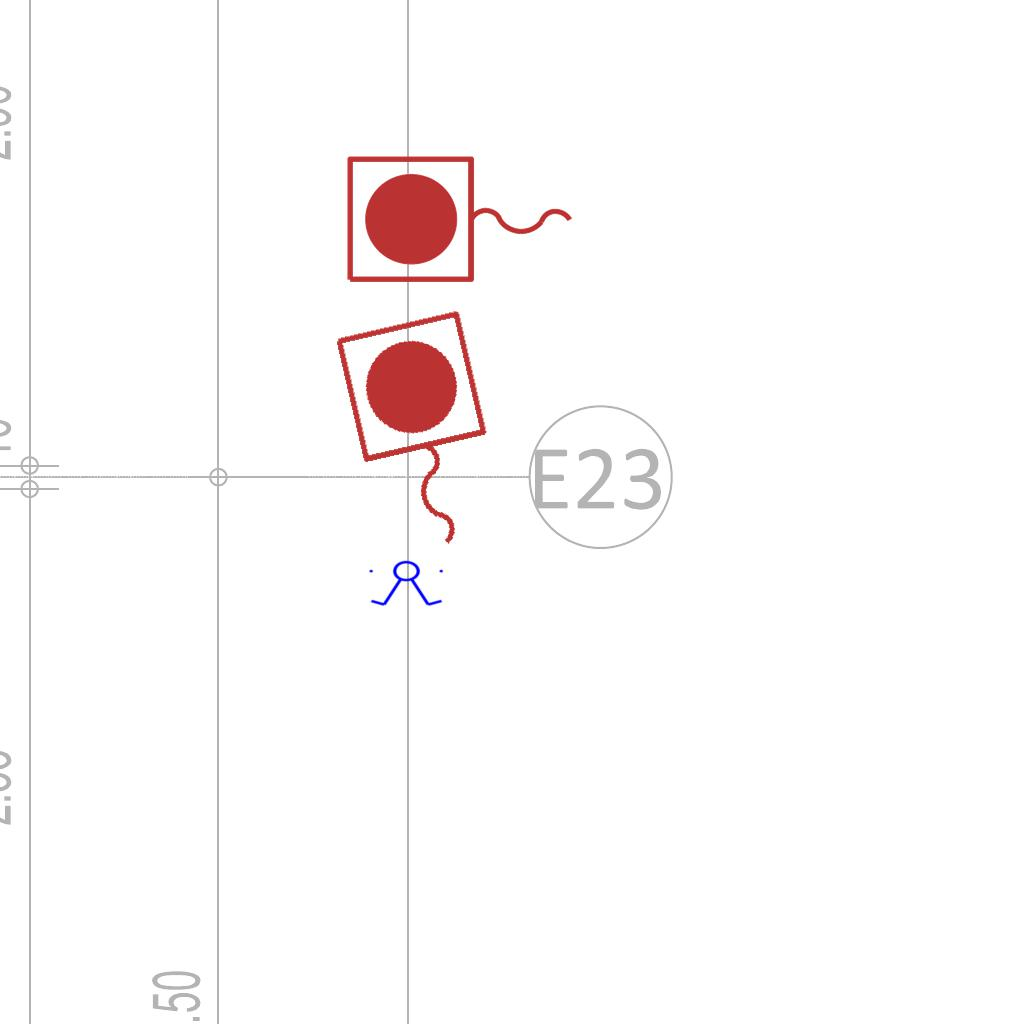Serienschalter: (365, 560, 449, 608)
Zugtaster: (323, 300, 519, 572), (339, 149, 583, 293)
